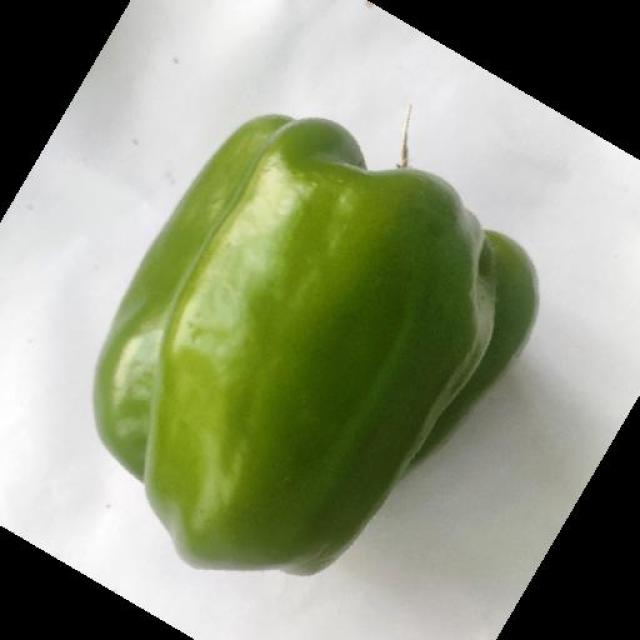Fresh_Capsicum: (85, 90, 503, 610)
